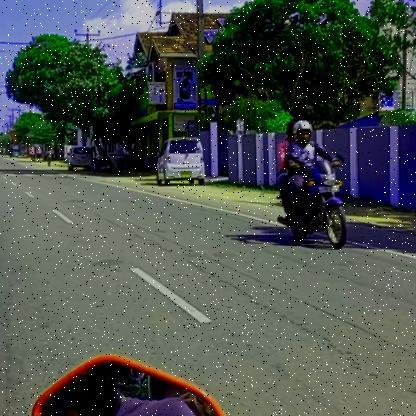motorcycle: (274, 158, 351, 250)
